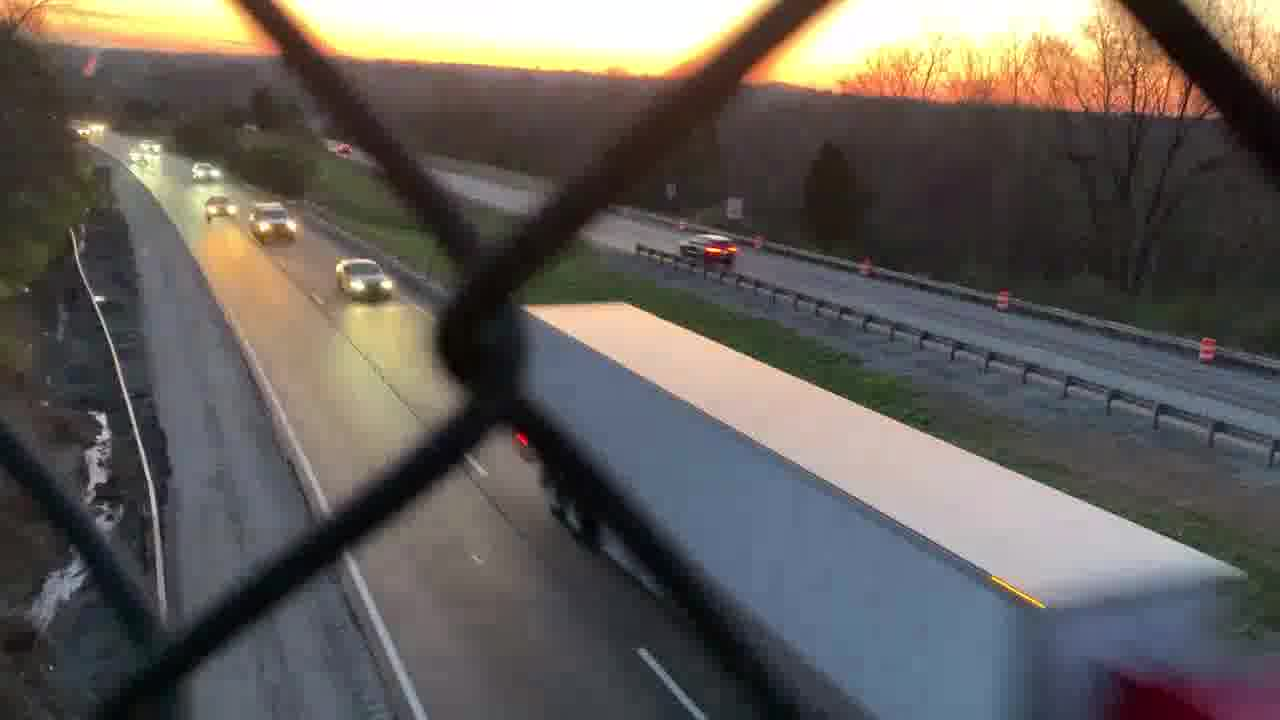heavyTruck: (484, 297, 1280, 720)
smallCar: (332, 253, 397, 305)
